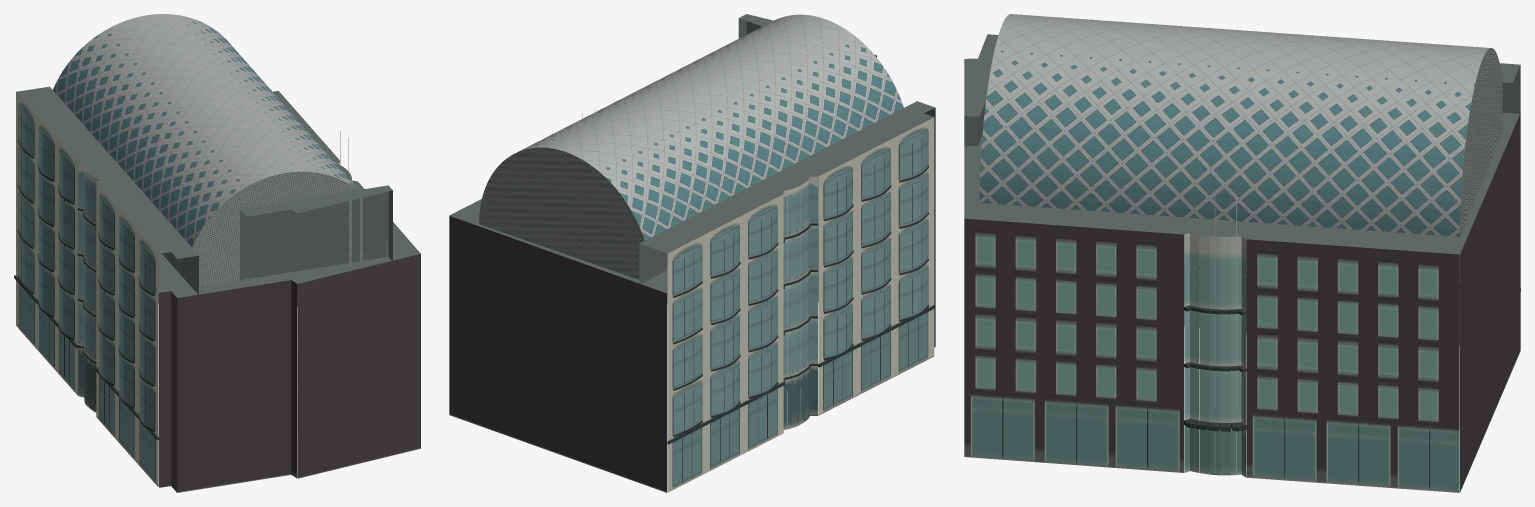
The picture shows the model from 3 angles, left to right: view 1: azimuth 30°, elevation 25°; view 2: azimuth 150°, elevation 25°; view 3: azimuth 270°, elevation 25°; orthographic projection. The views are drawn at different scales.
Parts seen in each view (by area): view 1: 0363100012243483; view 2: 0363100012243483; view 3: 0363100012243483.
Part boxes in pixels (x1,y1,x2,y2): 0363100012243483: [14, 14, 420, 492]; 0363100012243483: [449, 14, 935, 492]; 0363100012243483: [964, 14, 1520, 492].
Size of the model in its own units: 30.99 by 29.14 by 40.9.
Materials: 3 (2 with a texture image).
